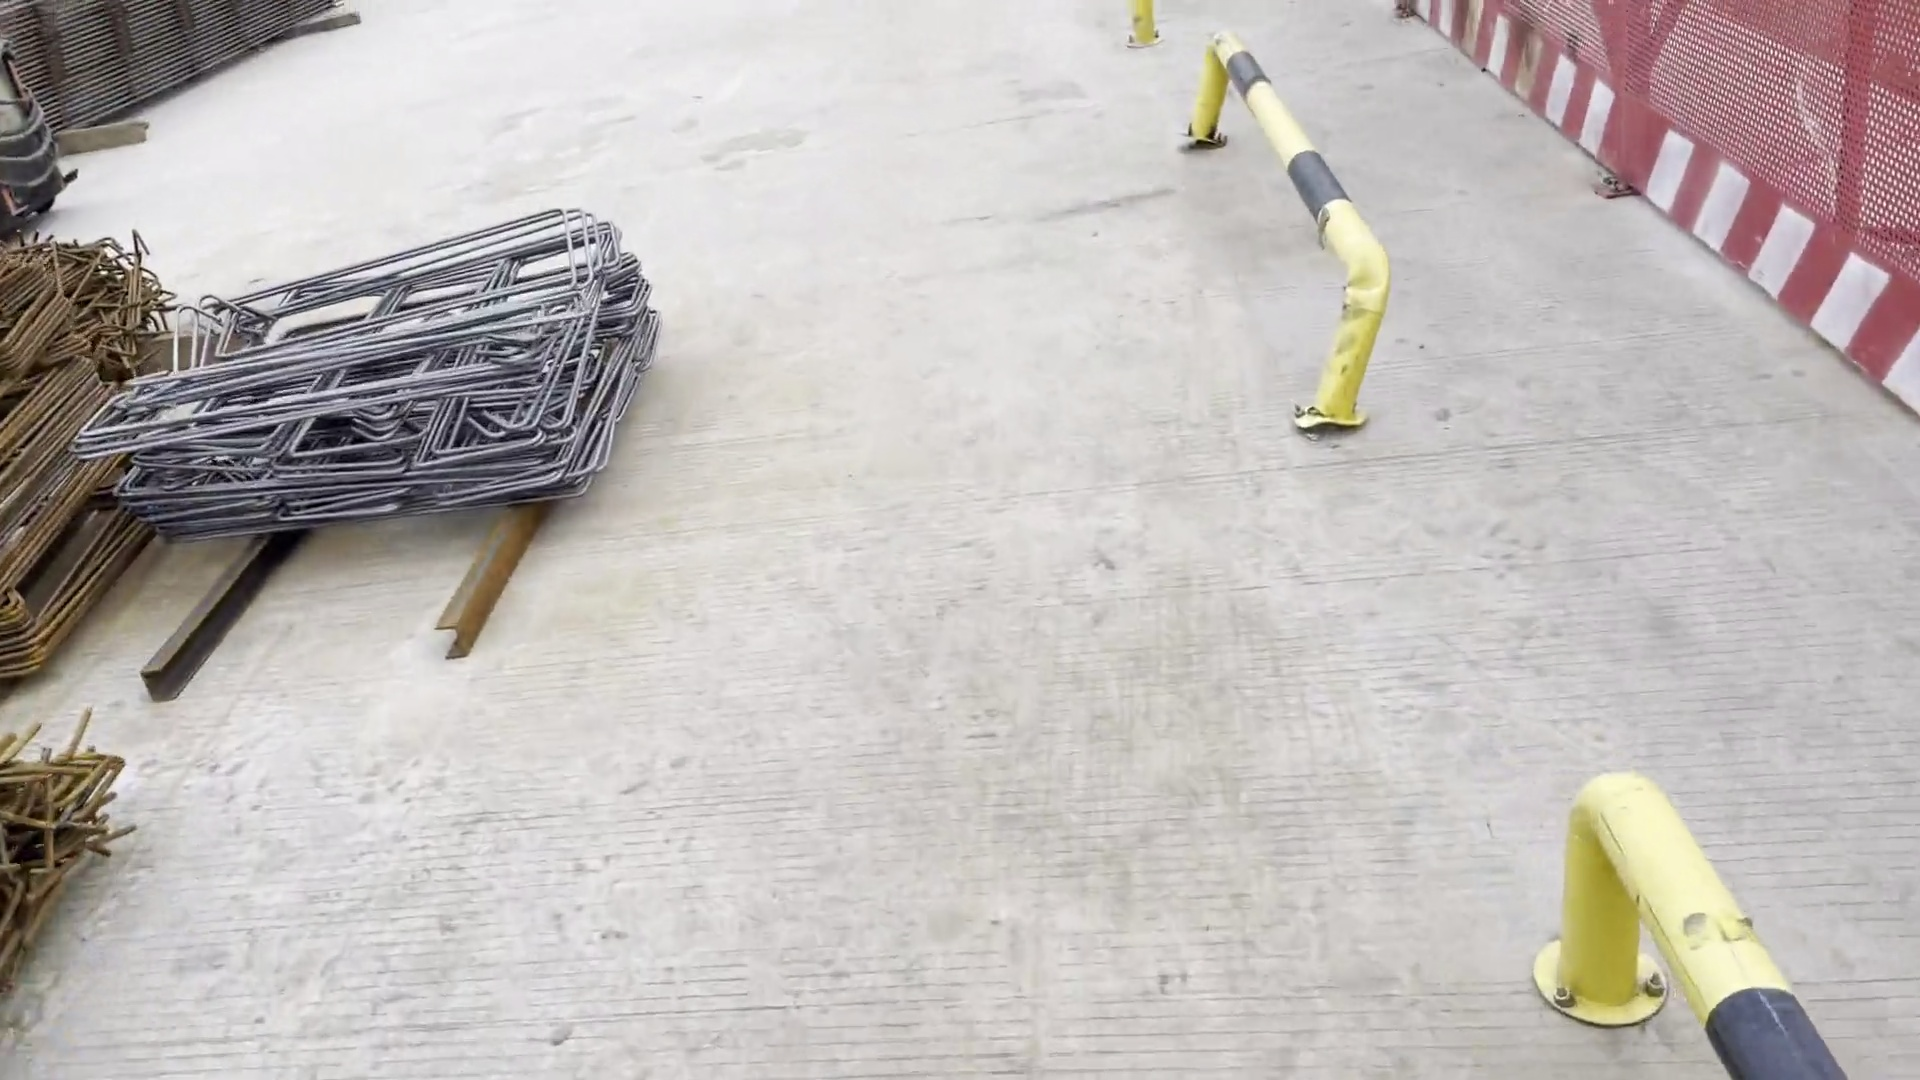fence: (1418, 3, 1920, 421)
